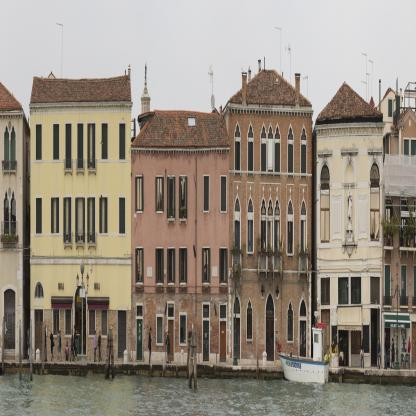Building Outline: (29, 57, 386, 368)
Cornice: (51, 295, 73, 304), (87, 297, 110, 305), (340, 148, 359, 157), (317, 150, 333, 157), (367, 148, 383, 155)
Deco: (358, 194, 368, 240), (332, 194, 342, 239), (346, 184, 353, 242), (344, 163, 355, 183), (275, 284, 280, 300), (261, 284, 266, 300), (94, 283, 100, 290), (58, 283, 64, 290), (277, 185, 279, 194), (349, 155, 351, 164), (374, 155, 376, 163), (237, 184, 239, 192), (263, 186, 265, 194), (290, 186, 292, 194), (303, 187, 305, 195), (324, 157, 326, 164), (250, 185, 252, 192), (270, 186, 271, 194)
Door: (338, 309, 349, 366), (370, 308, 380, 367), (351, 309, 361, 367), (321, 309, 330, 366), (118, 310, 127, 359), (35, 309, 43, 360), (266, 316, 274, 361), (233, 318, 240, 363), (300, 321, 306, 365), (168, 320, 174, 361), (137, 319, 143, 360), (220, 321, 226, 362), (203, 320, 209, 361)
Facade: (29, 56, 386, 368)
Floor: (31, 188, 132, 265), (229, 183, 311, 277), (131, 238, 229, 300)
Floor Slab: (31, 182, 132, 188), (31, 260, 132, 266), (131, 295, 229, 301), (131, 232, 229, 237), (229, 178, 311, 183), (229, 273, 311, 278), (317, 261, 383, 266)
Ground Floor: (31, 265, 132, 360), (229, 277, 311, 366), (317, 266, 383, 366), (131, 301, 229, 362)
Molding: (227, 105, 314, 118), (30, 105, 132, 115), (317, 126, 383, 137), (30, 259, 131, 266), (131, 148, 231, 155)
Roof: (131, 109, 230, 147), (229, 69, 312, 107), (30, 74, 132, 103), (317, 81, 383, 121)
Shop: (74, 307, 86, 356), (344, 325, 356, 331)
Sill: (342, 241, 358, 259), (87, 242, 96, 250), (64, 242, 73, 250), (88, 168, 97, 176), (64, 168, 73, 176), (76, 168, 85, 176), (76, 242, 84, 249), (179, 218, 187, 224), (168, 218, 175, 224)
Top Floor: (317, 135, 383, 265), (131, 154, 229, 238), (31, 110, 132, 188), (229, 115, 311, 182)
Window: (370, 184, 380, 241), (320, 185, 330, 242), (274, 215, 280, 269), (267, 215, 273, 269), (338, 278, 349, 305), (370, 277, 380, 305), (351, 277, 361, 304), (261, 215, 266, 269), (89, 198, 95, 242), (65, 198, 71, 242), (78, 198, 84, 242), (66, 124, 72, 168), (78, 124, 84, 168), (301, 219, 306, 271), (74, 286, 86, 307), (235, 218, 240, 268), (321, 278, 330, 305), (90, 124, 95, 168), (36, 199, 42, 234), (36, 125, 42, 160), (119, 198, 125, 233), (53, 125, 59, 160), (102, 124, 108, 159), (120, 124, 126, 159), (102, 198, 108, 233), (53, 198, 59, 233), (363, 323, 370, 353), (287, 219, 293, 254), (181, 177, 186, 218), (169, 177, 174, 218), (370, 162, 380, 182), (320, 165, 330, 184), (266, 292, 274, 315), (221, 248, 226, 283), (204, 248, 209, 283), (221, 176, 226, 211), (204, 176, 209, 211), (137, 176, 142, 211), (157, 248, 162, 283), (181, 248, 186, 283), (169, 248, 174, 283), (248, 217, 253, 252), (332, 324, 338, 353), (137, 248, 142, 282), (157, 177, 162, 211), (180, 316, 186, 344), (268, 139, 273, 172), (235, 138, 240, 170), (288, 141, 293, 173), (275, 140, 280, 172), (248, 139, 253, 171), (261, 139, 266, 171), (301, 142, 306, 173), (66, 310, 72, 335), (53, 309, 59, 334), (102, 310, 108, 335), (89, 309, 95, 334), (287, 316, 293, 341), (35, 282, 44, 298), (157, 317, 162, 343), (247, 315, 252, 339), (300, 298, 306, 317), (234, 296, 240, 314), (287, 200, 293, 216), (274, 199, 280, 215), (267, 199, 273, 215), (203, 304, 209, 318), (287, 302, 293, 316), (235, 197, 240, 213), (261, 199, 266, 215), (220, 305, 226, 318), (168, 304, 174, 317), (301, 201, 306, 216), (248, 198, 253, 213), (235, 124, 240, 138), (261, 125, 266, 139), (275, 126, 280, 140), (247, 301, 252, 314), (301, 128, 306, 141), (248, 125, 253, 138), (268, 126, 273, 139), (288, 127, 293, 140), (137, 306, 143, 316)
